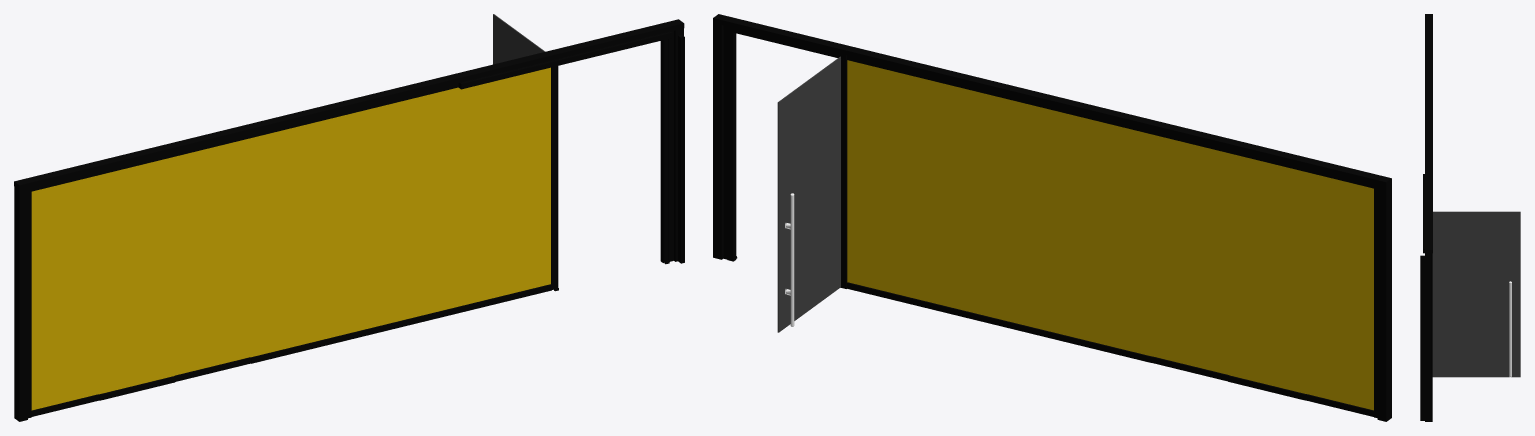
Rendered from Door.fbx.
3 renders of one model, left to right at view 1: azimuth 30°, elevation 25°; view 2: azimuth 150°, elevation 25°; view 3: azimuth 270°, elevation 25°, orthographic. The views are drawn at different scales.
Visible parts, largest first — view 1: Door3107, Door382, Door361, Door394, Door3110, Door324, Door301, Door3113, Door398, Door395, Door3101, Door3104; view 2: Door382, Door3107, Door361, Door394, Door3110, Door324, Door301, Door3113, Door3104, Door398, Door395, Door310 (+1 smaller); view 3: Door3104, Door301, Door312, Door3101.
Boxes of the visible parts, x1=… form: Door3107: x1=174, y1=138, x2=250, y2=375; Door382: x1=401, y1=85, x2=477, y2=320; Door361: x1=326, y1=101, x2=401, y2=338; Door394: x1=250, y1=120, x2=325, y2=357; Door3110: x1=99, y1=157, x2=174, y2=394; Door324: x1=477, y1=67, x2=550, y2=301; Door301: x1=14, y1=19, x2=684, y2=421; Door3113: x1=31, y1=175, x2=98, y2=410; Door398: x1=660, y1=39, x2=668, y2=262; Door395: x1=551, y1=66, x2=558, y2=289; Door3101: x1=460, y1=31, x2=672, y2=89; Door3104: x1=493, y1=14, x2=545, y2=64; Door382: x1=922, y1=78, x2=999, y2=318; Door3107: x1=1152, y1=134, x2=1229, y2=374; Door361: x1=999, y1=97, x2=1075, y2=337; Door394: x1=1076, y1=116, x2=1152, y2=356; Door3110: x1=1229, y1=153, x2=1305, y2=393; Door324: x1=847, y1=60, x2=922, y2=300; Door301: x1=713, y1=14, x2=1391, y2=421; Door3113: x1=1306, y1=172, x2=1373, y2=410; Door3104: x1=777, y1=56, x2=840, y2=332; Door398: x1=727, y1=31, x2=736, y2=261; Door395: x1=840, y1=59, x2=847, y2=288; Door310: x1=786, y1=193, x2=794, y2=326; Door3104: x1=1432, y1=211, x2=1520, y2=377; Door301: x1=1420, y1=14, x2=1432, y2=421; Door312: x1=1509, y1=281, x2=1511, y2=377; Door3101: x1=1423, y1=174, x2=1424, y2=248.
Bounding box in the file's own units: 759 × 258 × 136.
